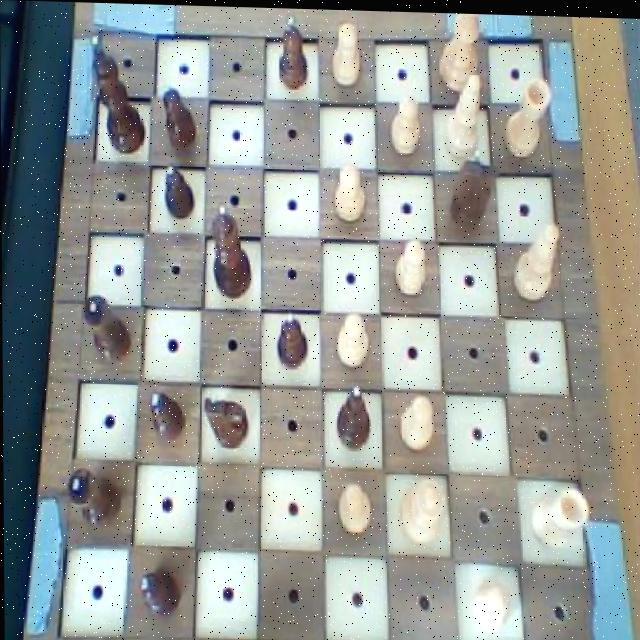black-bishop: (86, 31, 147, 156)
black-king: (444, 143, 500, 229), (201, 386, 252, 450)
black-knight: (331, 375, 376, 457), (158, 76, 201, 152), (275, 14, 311, 95), (133, 560, 182, 619), (274, 307, 312, 369), (161, 159, 197, 221), (148, 385, 187, 441)
black-pawn: (208, 200, 256, 300)
black-queen: (63, 463, 123, 535), (82, 291, 133, 369)
black-rook: (507, 215, 563, 304), (439, 65, 487, 158)
white-bishop: (436, 10, 485, 94)
white-knight: (333, 306, 376, 374), (390, 232, 431, 300), (329, 17, 366, 91), (386, 87, 424, 159), (395, 389, 438, 452), (470, 574, 515, 632), (335, 474, 374, 539), (334, 157, 372, 222)
white-pawn: (393, 472, 449, 544)
white-queen: (499, 70, 553, 160), (527, 477, 592, 550)
